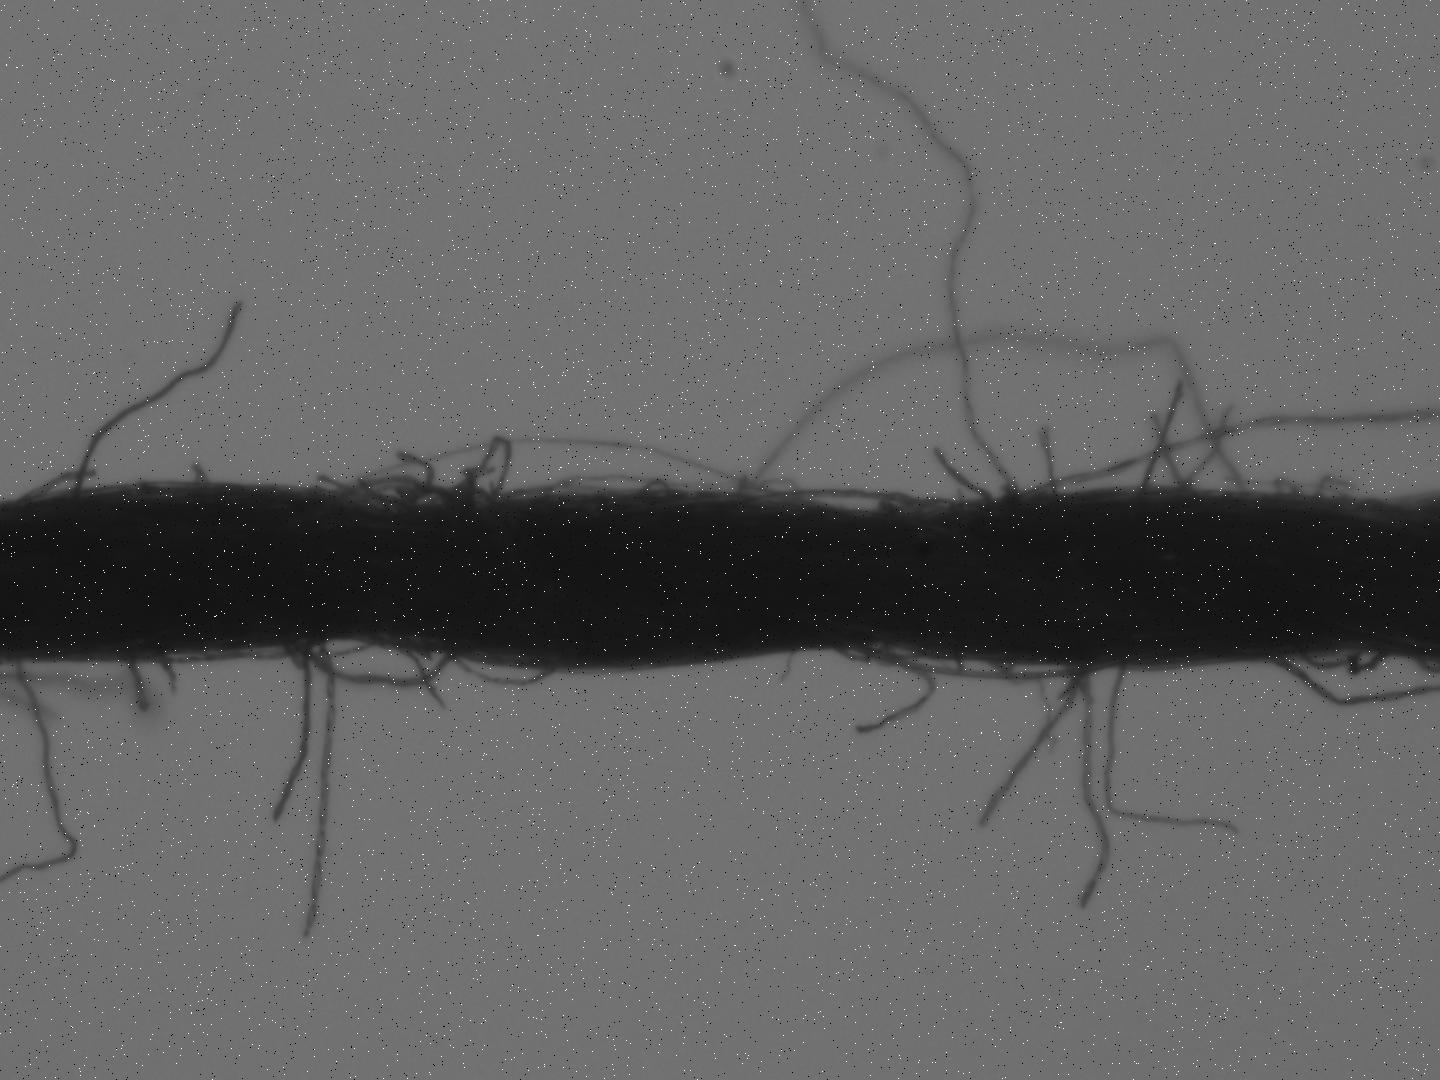loop_fiber: (287, 641, 451, 689), (873, 649, 1103, 682), (732, 486, 893, 523), (329, 472, 454, 515), (455, 433, 509, 511), (452, 653, 550, 689), (880, 496, 971, 522), (1297, 651, 1389, 676), (866, 641, 920, 668), (835, 639, 879, 663)
protruding_fiber: (68, 301, 244, 495), (298, 640, 340, 939), (1076, 664, 1111, 914), (1136, 379, 1187, 495), (927, 442, 998, 514)
